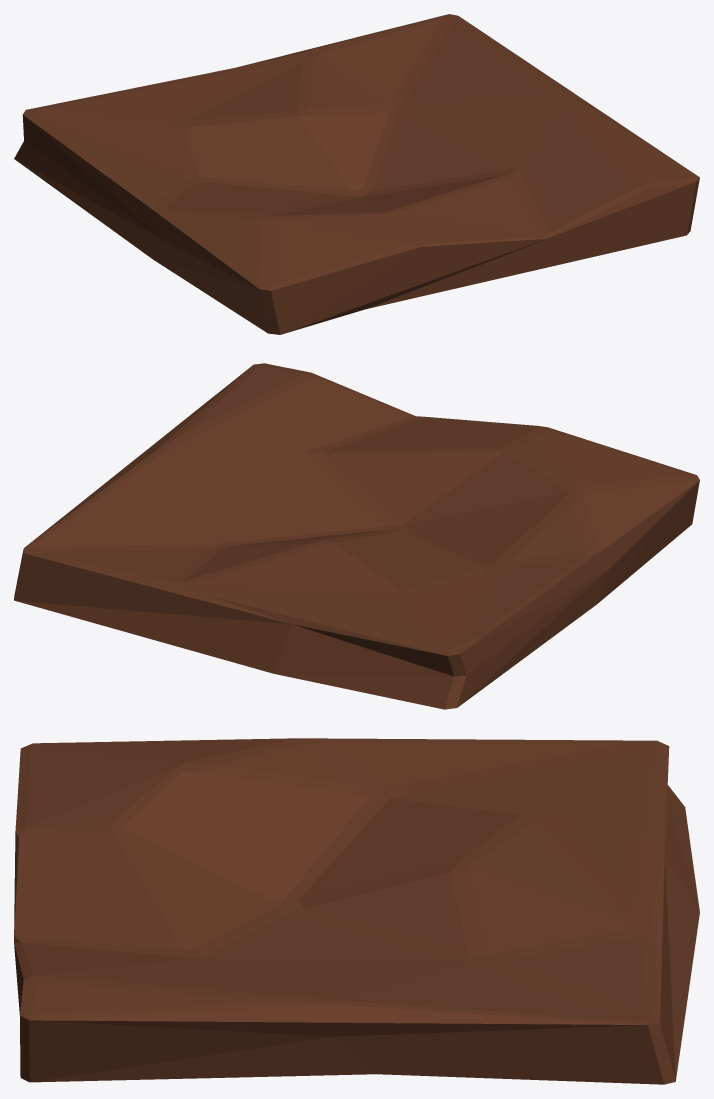
File: Eearth.fbx
The picture shows the model from 3 angles, top to bottom: view 1: azimuth 30°, elevation 25°; view 2: azimuth 150°, elevation 25°; view 3: azimuth 270°, elevation 25°; orthographic projection. The views are drawn at different scales.
Visible parts, largest first — view 1: Tile of ground; view 2: Tile of ground; view 3: Tile of ground.
Boxes of the visible parts, left/top/right/bottom form: Tile of ground: left=14, top=14, right=699, bottom=334; Tile of ground: left=14, top=363, right=699, bottom=709; Tile of ground: left=14, top=738, right=699, bottom=1084.
Bounding box in the file's own units: 205 × 27.29 × 207.
